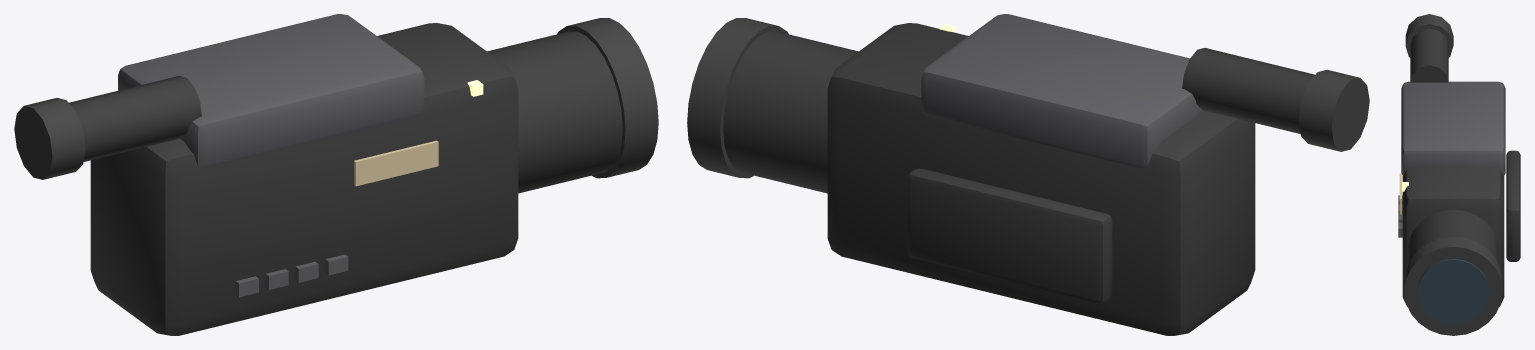
File: SM_Camcorder.fbx
The picture shows the model from 3 angles, left to right: view 1: azimuth 30°, elevation 25°; view 2: azimuth 150°, elevation 25°; view 3: azimuth 270°, elevation 25°; orthographic projection. The views are drawn at different scales.
Parts seen in each view (by area): view 1: SM_Camcorder; view 2: SM_Camcorder; view 3: SM_Camcorder.
Boxes of the visible parts, box(x1,y1,x2,y2) form: SM_Camcorder: box(14, 14, 658, 335); SM_Camcorder: box(687, 14, 1369, 335); SM_Camcorder: box(1398, 14, 1520, 335).
Size of the model in its own units: 36.7 by 14.5 by 10.2.
